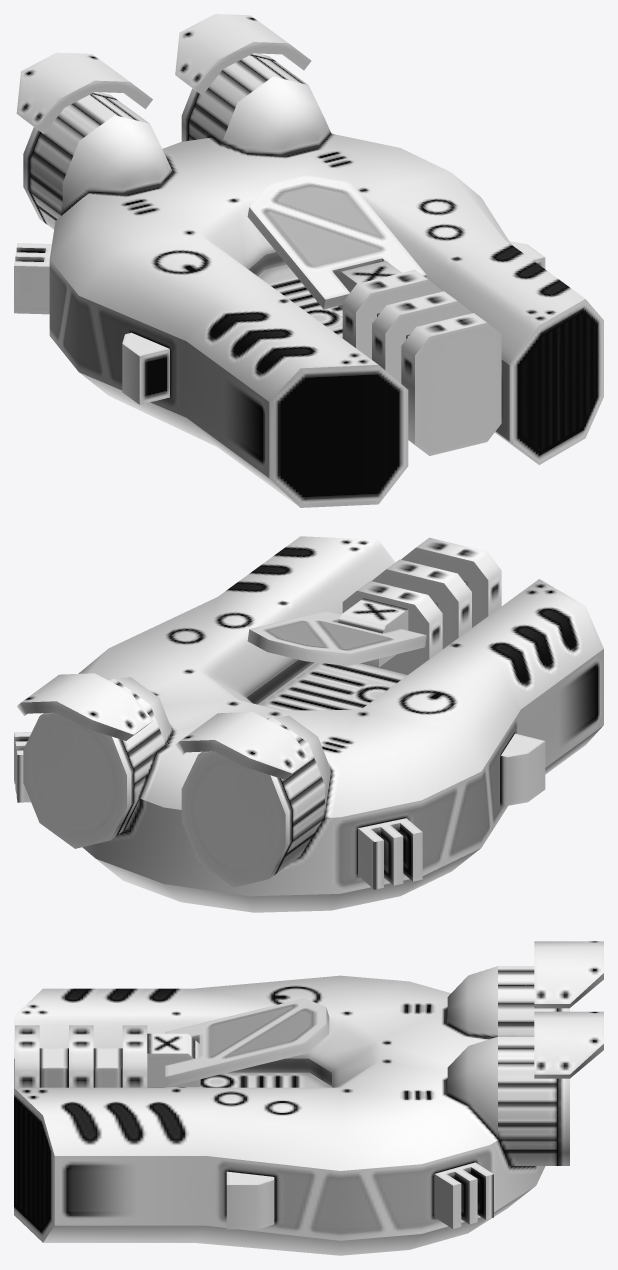
File: Enemy_Gauss.FBX
The picture shows the model from 3 angles, top to bottom: view 1: azimuth 30°, elevation 25°; view 2: azimuth 150°, elevation 25°; view 3: azimuth 270°, elevation 25°; orthographic projection. The views are drawn at different scales.
Parts seen in each view (by area): view 1: Enemy_Gauss, Enemy_Gauss_Up_Gun, Enemy_Gauss_Up_Armor, Enemy_Gauss_Up_Speed; view 2: Enemy_Gauss, Enemy_Gauss_Up_Speed, Enemy_Gauss_Up_Gun, Enemy_Gauss_Up_Armor; view 3: Enemy_Gauss, Enemy_Gauss_Up_Speed, Enemy_Gauss_Up_Armor, Enemy_Gauss_Up_Gun.
Boxes of the visible parts, box(x1,y1,x2,y2) form: Enemy_Gauss: box(14, 53, 603, 507); Enemy_Gauss_Up_Gun: box(372, 291, 501, 455); Enemy_Gauss_Up_Armor: box(247, 175, 426, 309); Enemy_Gauss_Up_Speed: box(16, 14, 311, 133); Enemy_Gauss: box(14, 536, 603, 912); Enemy_Gauss_Up_Speed: box(17, 673, 311, 779); Enemy_Gauss_Up_Gun: box(372, 537, 501, 649); Enemy_Gauss_Up_Armor: box(247, 610, 426, 665); Enemy_Gauss: box(14, 966, 569, 1255); Enemy_Gauss_Up_Speed: box(534, 941, 603, 1078); Enemy_Gauss_Up_Armor: box(165, 998, 329, 1086); Enemy_Gauss_Up_Gun: box(15, 1025, 93, 1087).
Size of the model in its own units: 177 by 88.97 by 243.
